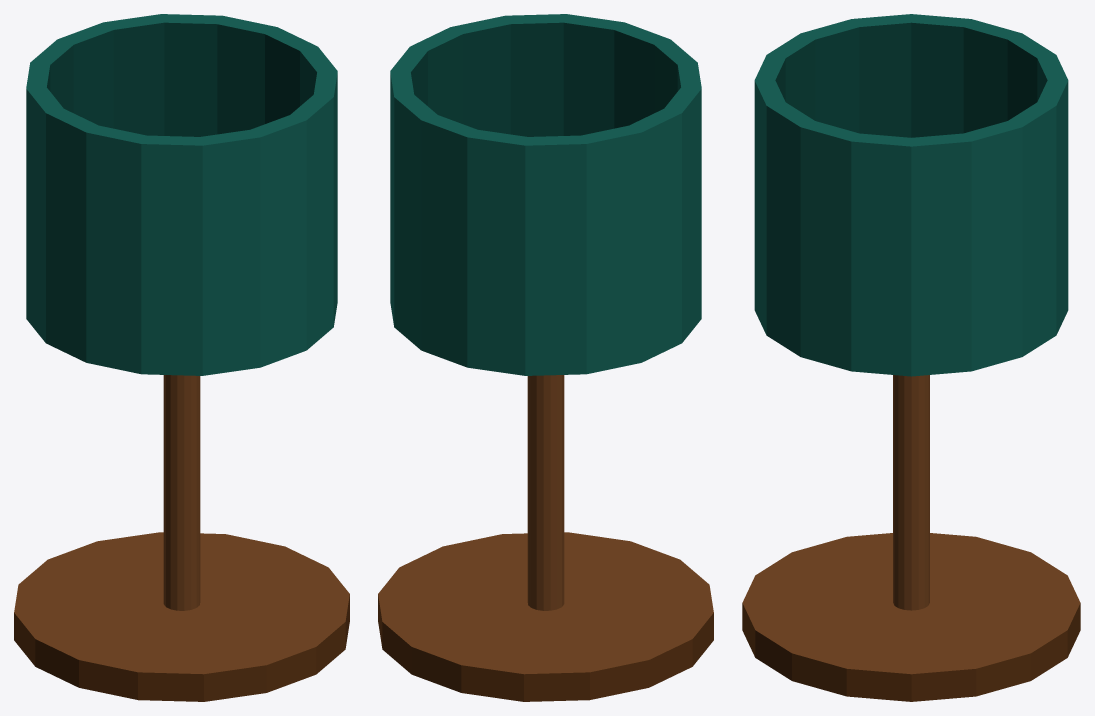
The model's file is Lamp3.fbx.
3 views of the same model, side by side, from view 1: azimuth 30°, elevation 25°; view 2: azimuth 150°, elevation 25°; view 3: azimuth 270°, elevation 25° (orthographic).
Visible parts, largest first — view 1: Prop_HomeLamp_02; view 2: Prop_HomeLamp_02; view 3: Prop_HomeLamp_02.
Boxes of the visible parts, x1,y1,x2,y2 form: Prop_HomeLamp_02: (14, 14, 349, 701); Prop_HomeLamp_02: (378, 14, 713, 701); Prop_HomeLamp_02: (742, 14, 1080, 701).
Size of the model in its own units: 34.7 by 62.3 by 34.7.
1 material, 1 textured.
